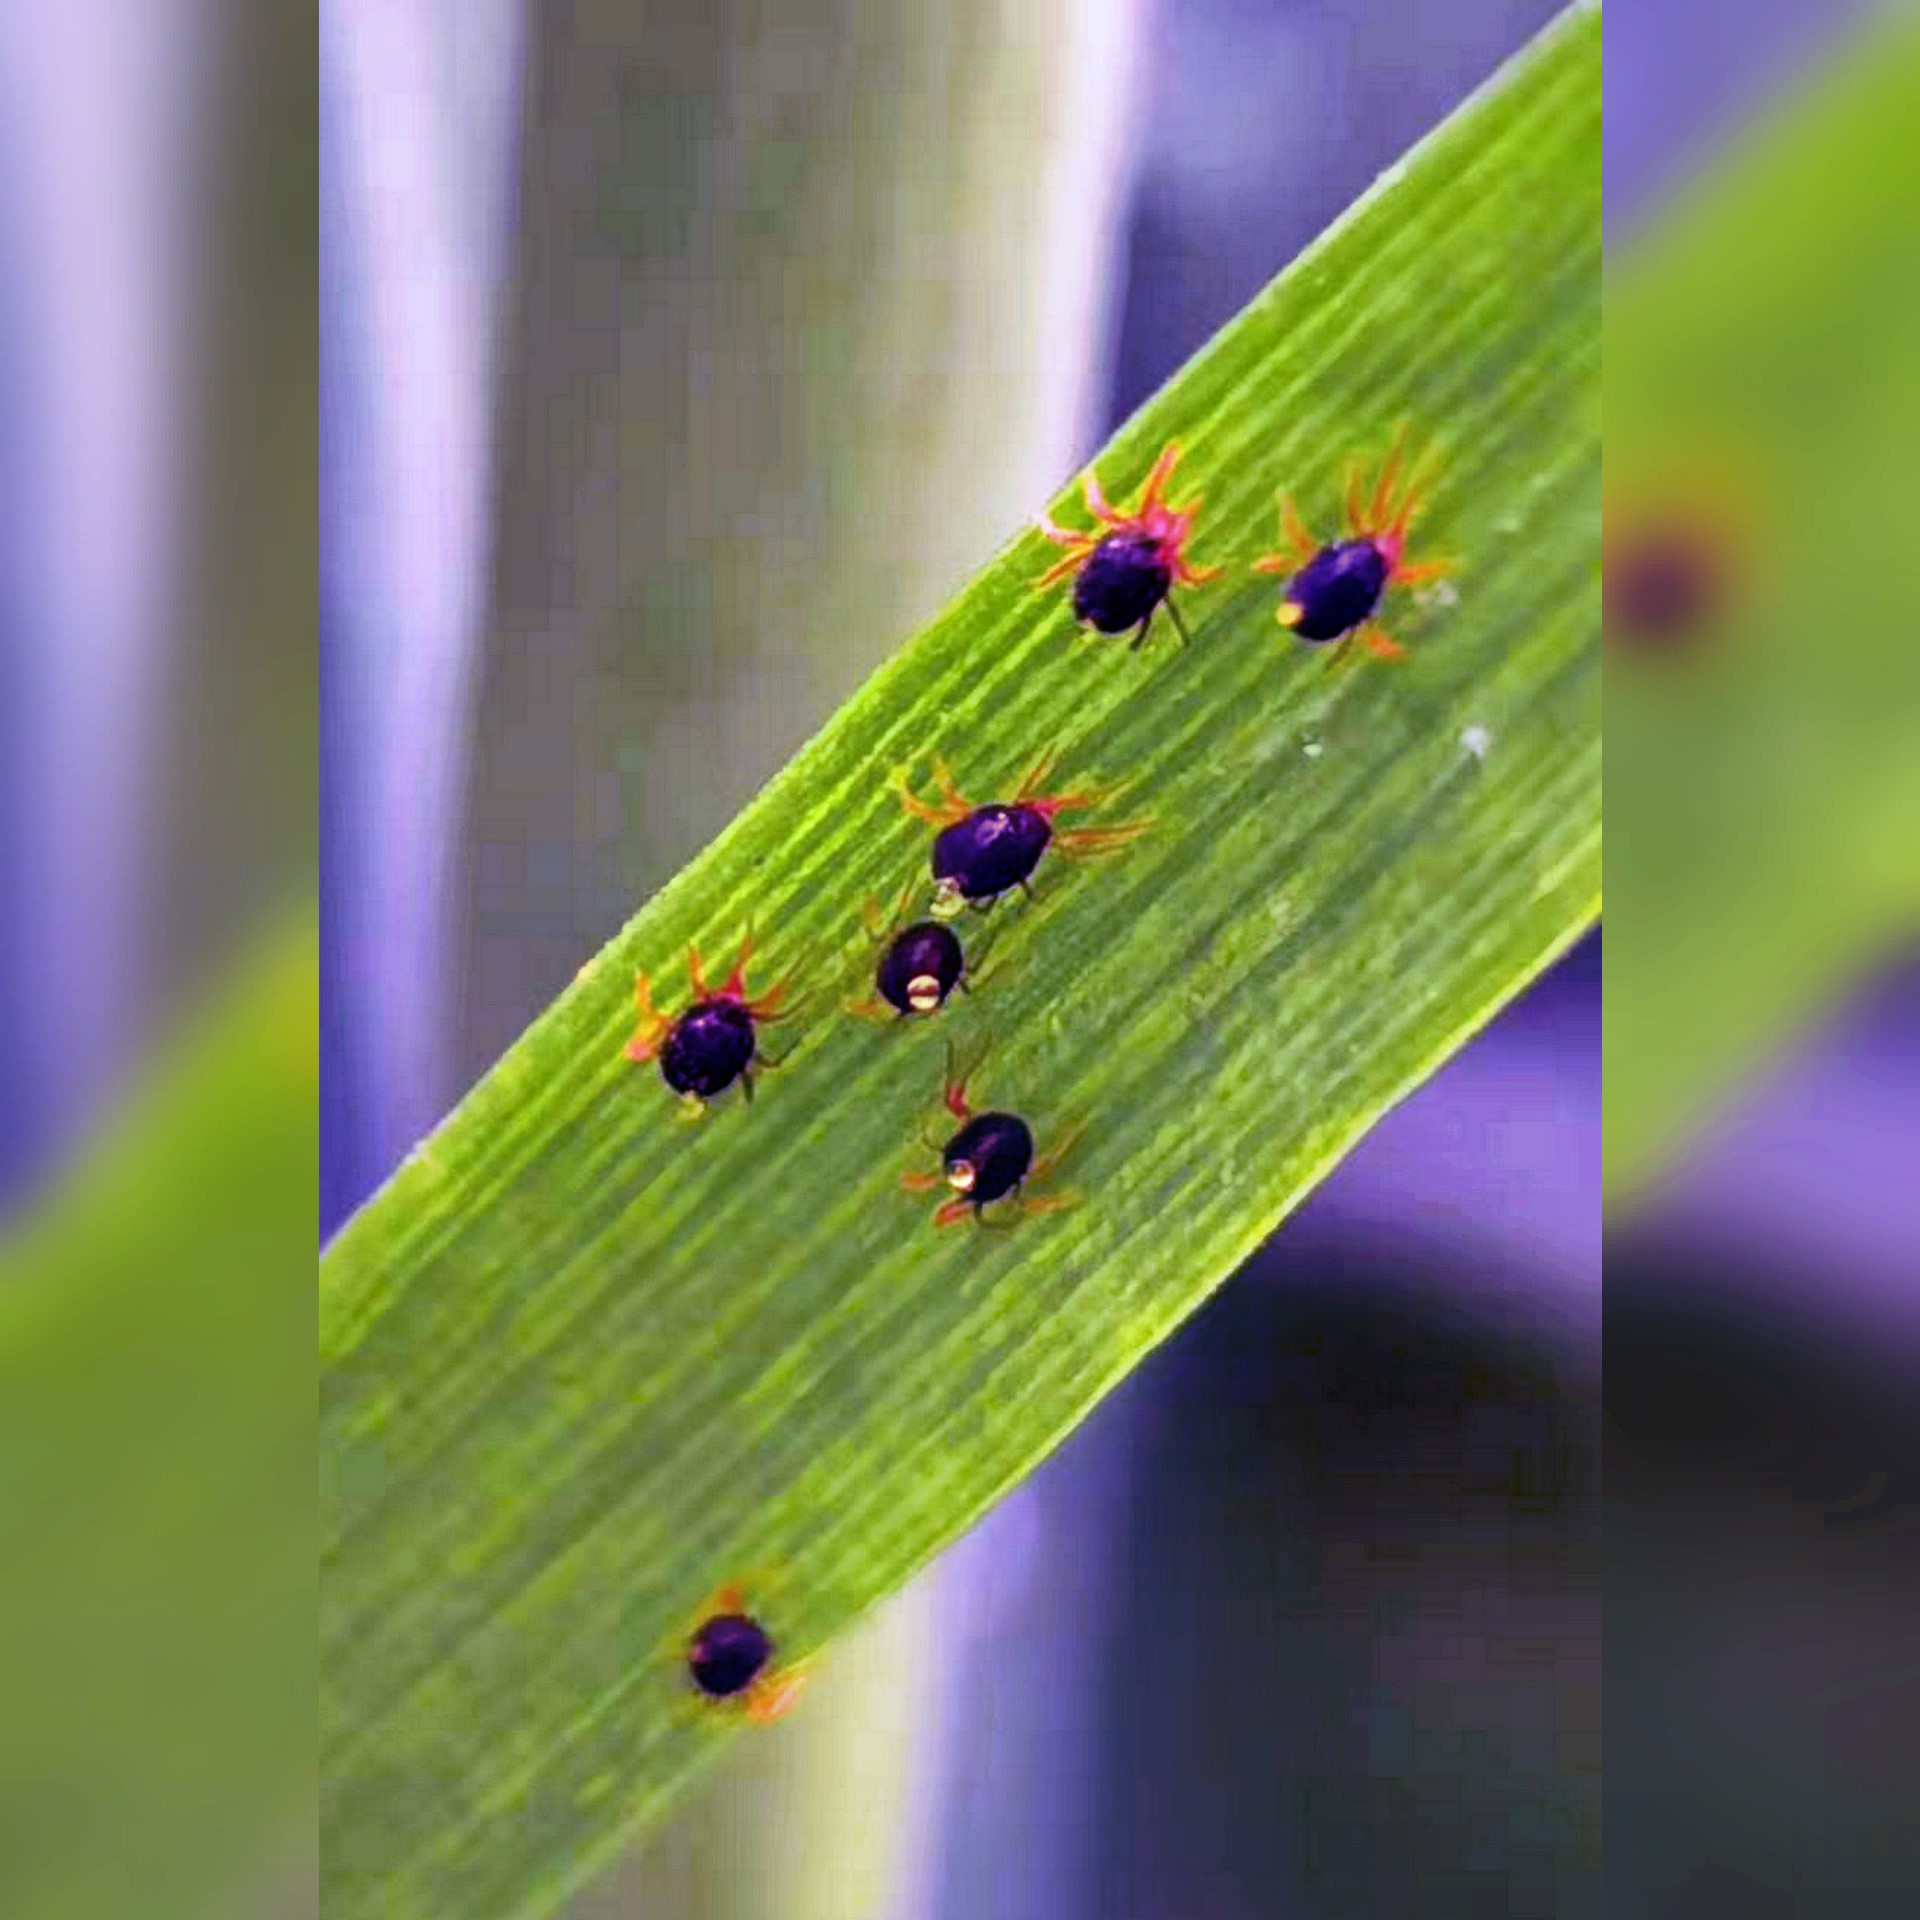Wheat Red Spider: (990, 413, 1484, 709)
